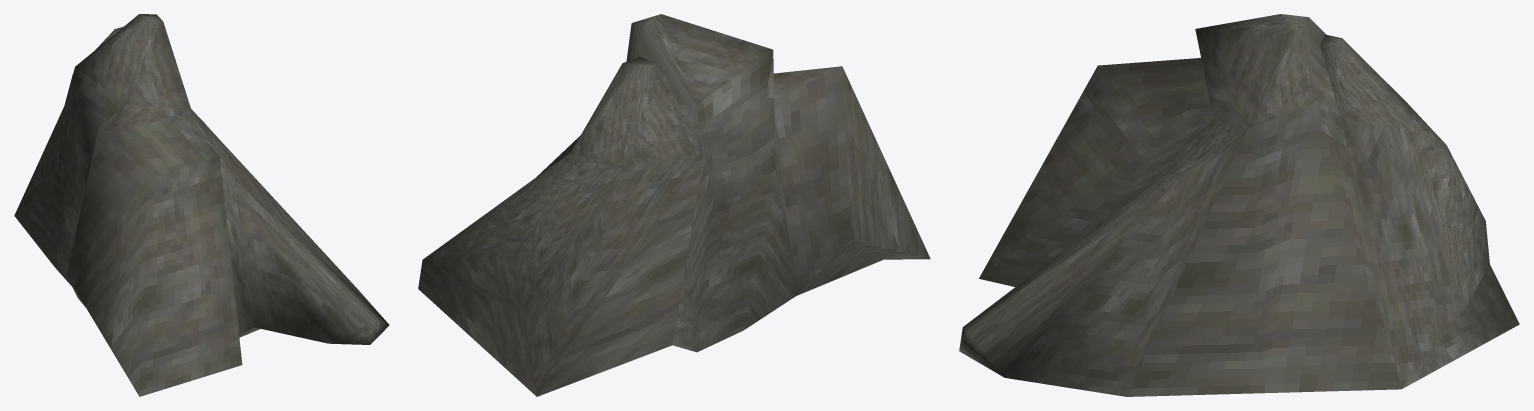
Rendered from rock_3.glb.
3 renders of one model, left to right at view 1: azimuth 30°, elevation 25°; view 2: azimuth 150°, elevation 25°; view 3: azimuth 270°, elevation 25°, orthographic. The views are drawn at different scales.
Parts seen in each view (by area): view 1: rock3; view 2: rock3; view 3: rock3.
Part boxes in pixels (x1,y1,x2,y2): rock3: [14, 14, 389, 396]; rock3: [418, 14, 930, 396]; rock3: [959, 14, 1519, 396].
Size of the model in its own units: 2.32 by 2.07 by 3.36.
1 material, 1 textured.
